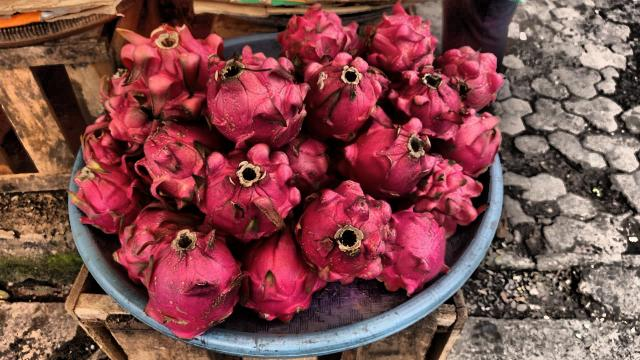buah-naga-matang: (146, 224, 244, 340), (200, 52, 310, 154), (113, 16, 219, 112), (292, 186, 388, 288), (197, 146, 303, 228), (110, 187, 202, 278), (300, 51, 386, 143), (136, 112, 222, 200), (347, 114, 433, 197), (382, 61, 468, 143), (238, 236, 318, 316), (380, 206, 448, 292), (276, 6, 366, 68), (432, 44, 514, 112), (412, 149, 478, 229), (362, 0, 432, 72), (70, 160, 138, 222), (436, 110, 498, 173), (80, 112, 148, 164)
